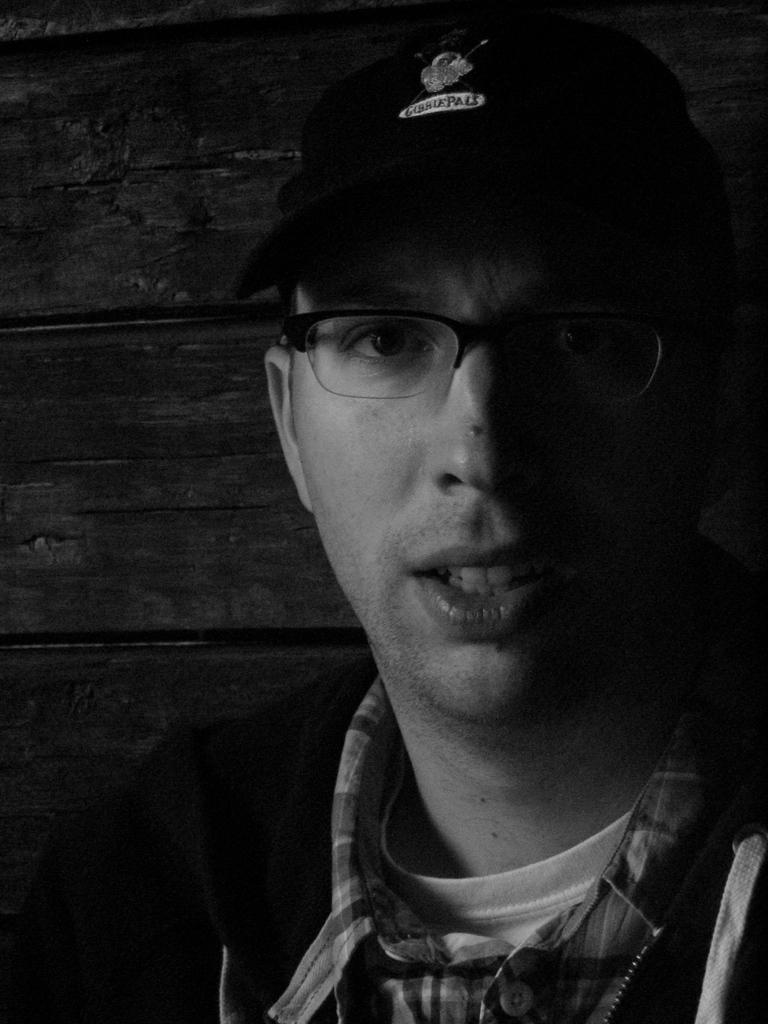Hat: (235, 26, 696, 302)
